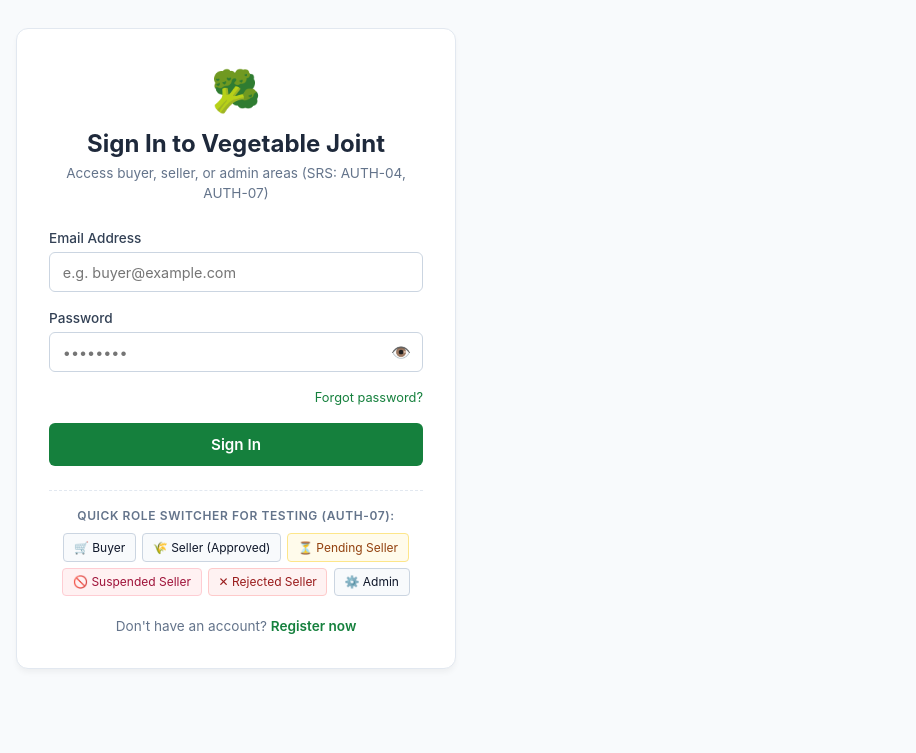
Test: Login Page (FE-065 / AUTH-04, AUTH-09, AUTH-13) › Form layout (Figma Section 5 / AUTH-04) › shows required-field validation when submitting an empty form
Step 1. Click the button with test id "login-submit-btn" → (236, 445), box [49,423,423,466]
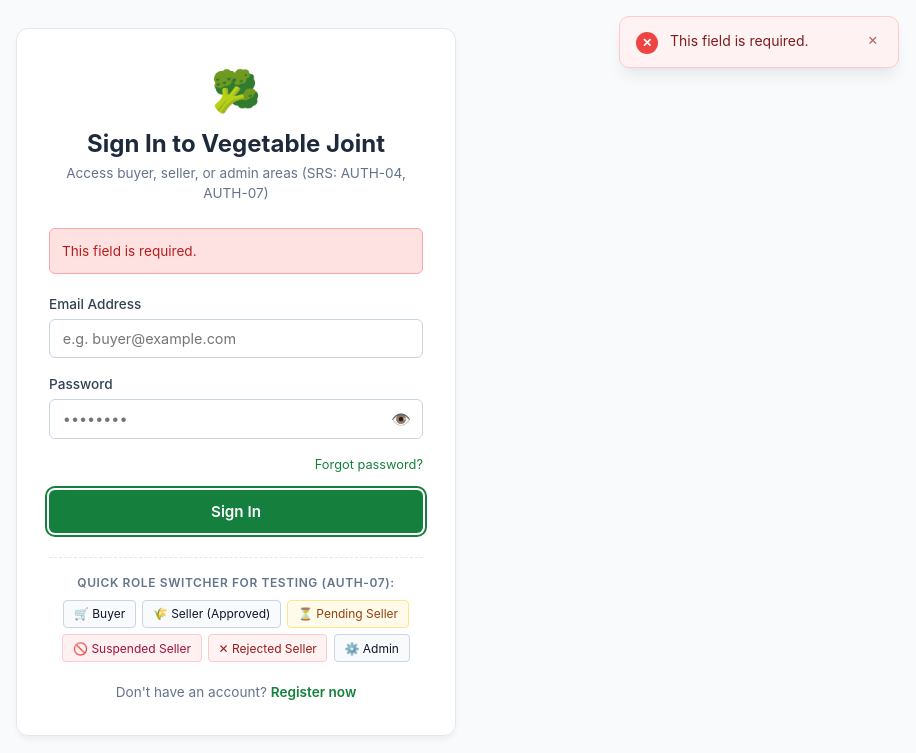
Expected: the message with test id "login-error-message" reads "This field is required.", [62,243,197,259]
